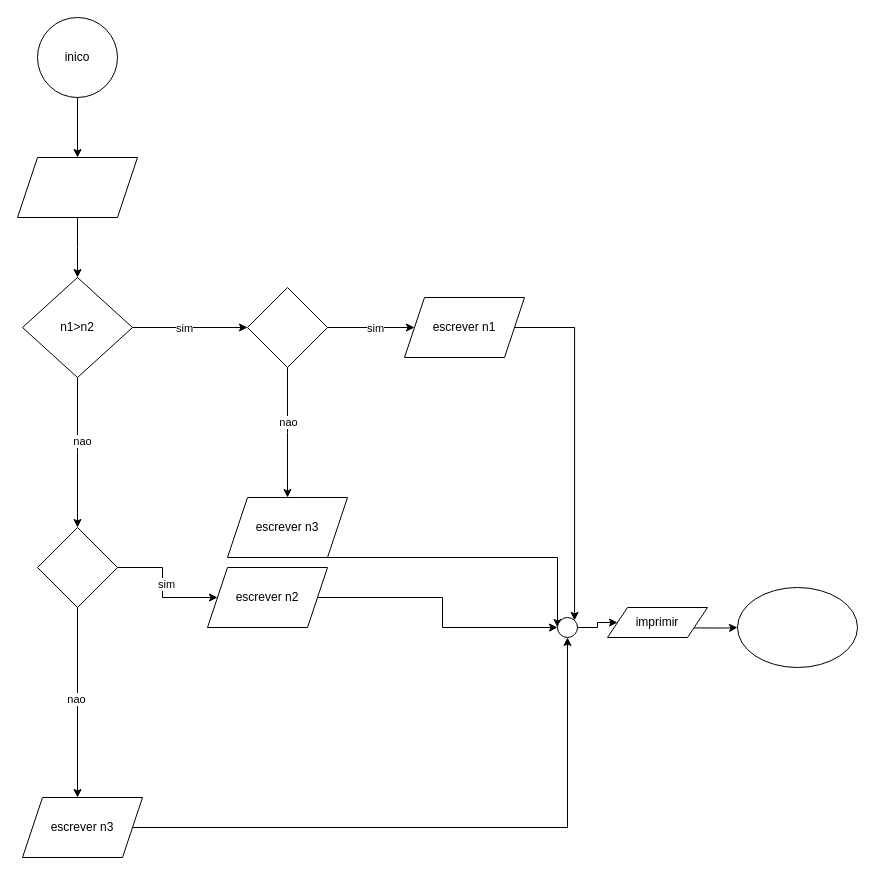
Image size: 875x875. Some labels were removed from this diagram. The centre of each missing label's shape, as x and y in pixels:
"escrever tres n" belongs at point 77,187.
"fim" belongs at point 797,627.
"n1>n3" belongs at point 287,327.
"n2>n3" belongs at point 77,567.
